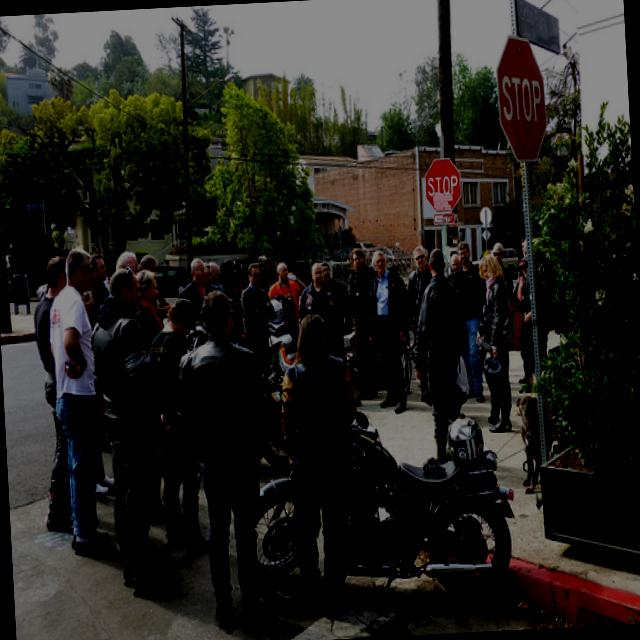Vehicle: (242, 399, 522, 621), (260, 366, 290, 472), (156, 256, 198, 298), (268, 330, 298, 370), (500, 248, 520, 276), (36, 284, 50, 300)
